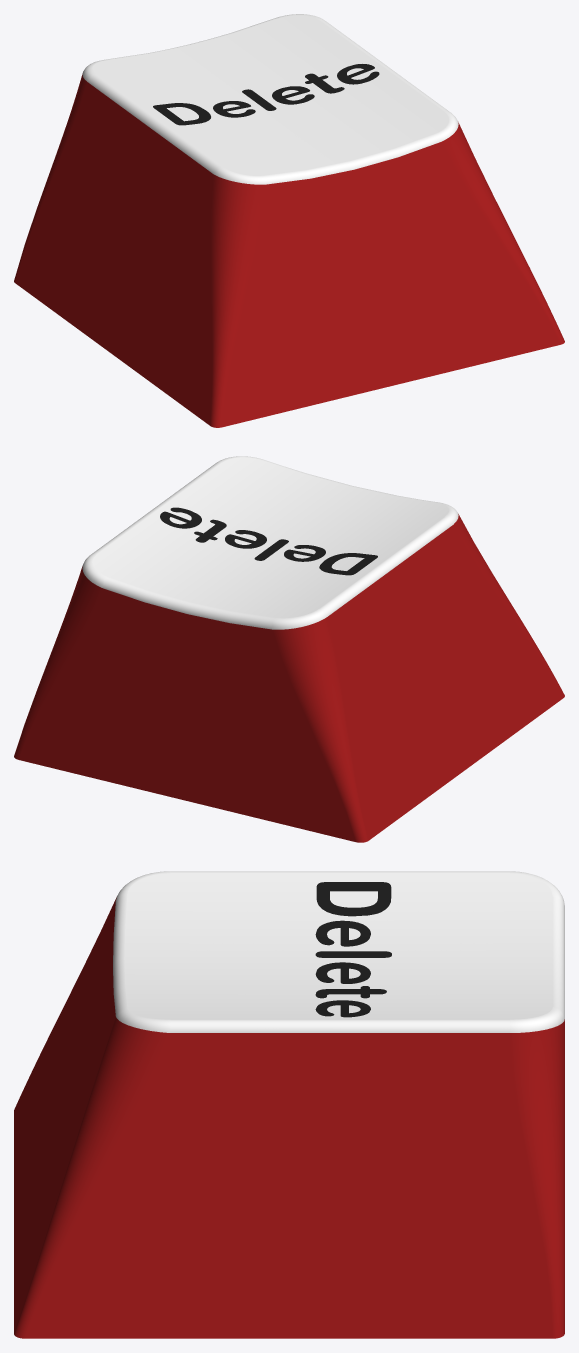
Rendered from Delete.fbx.
3 renders of one model, top to bottom at view 1: azimuth 30°, elevation 25°; view 2: azimuth 150°, elevation 25°; view 3: azimuth 270°, elevation 25°, orthographic. The views are drawn at different scales.
Visible parts, largest first — view 1: Body1; view 2: Body1; view 3: Body1.
Part boxes in pixels (box(x1,y1,x2,y2)): Body1: box(14, 14, 564, 427); Body1: box(14, 456, 564, 842); Body1: box(14, 871, 564, 1338).
Size of the model in its own units: 18 by 9.95 by 18.
